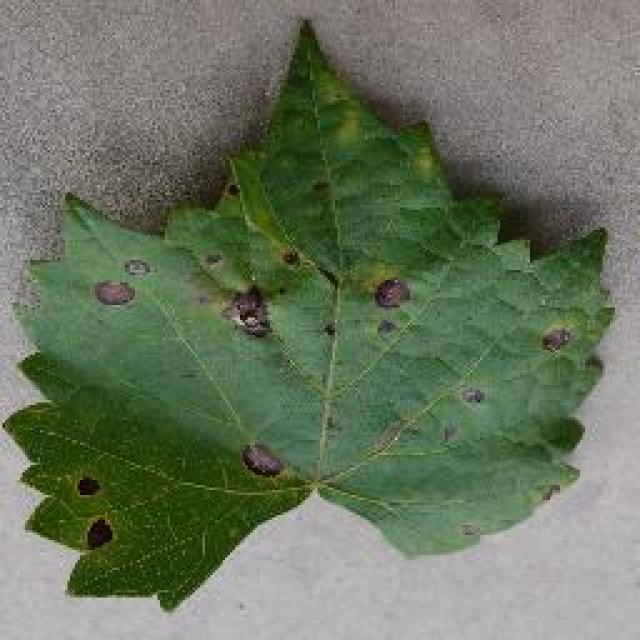Grape___Black_rot: (0, 7, 620, 616)
